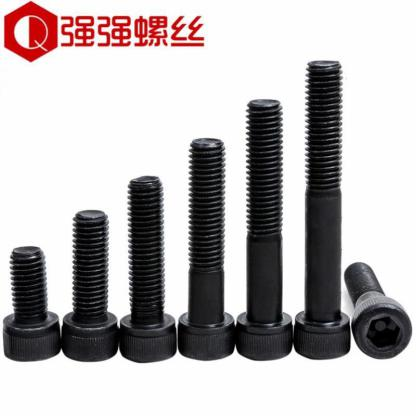FOD: (292, 57, 352, 361), (234, 96, 293, 364), (176, 136, 238, 362), (115, 174, 179, 364), (59, 207, 120, 364), (342, 259, 415, 362), (0, 246, 62, 364)
